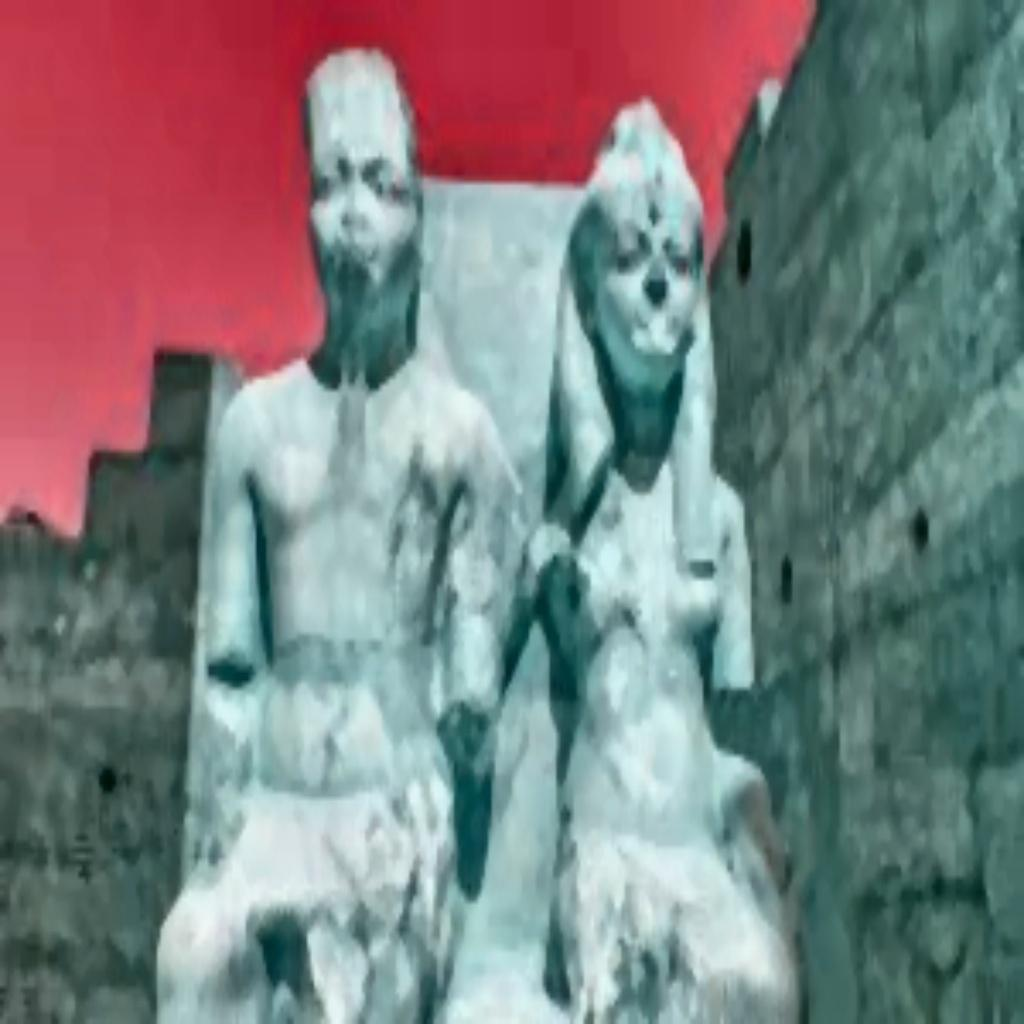Statue of Ankhesenamun: (530, 92, 806, 1018)
Statue of Tutankhamun: (154, 43, 508, 1018)
